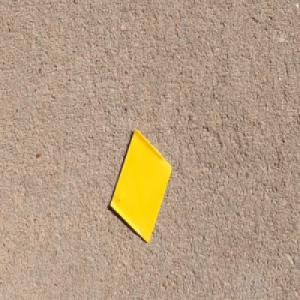PlasticPart: (108, 126, 172, 245)
